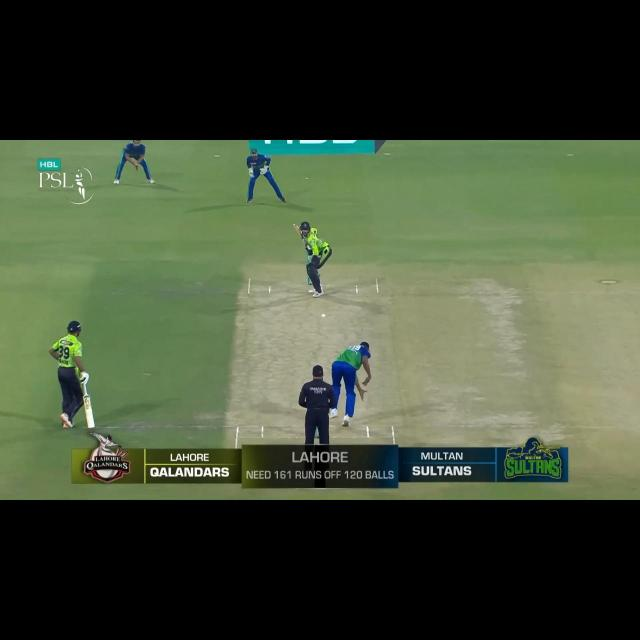bat: (82, 395, 96, 430), (290, 223, 309, 246)
toe: (85, 421, 96, 428), (291, 222, 299, 229)
